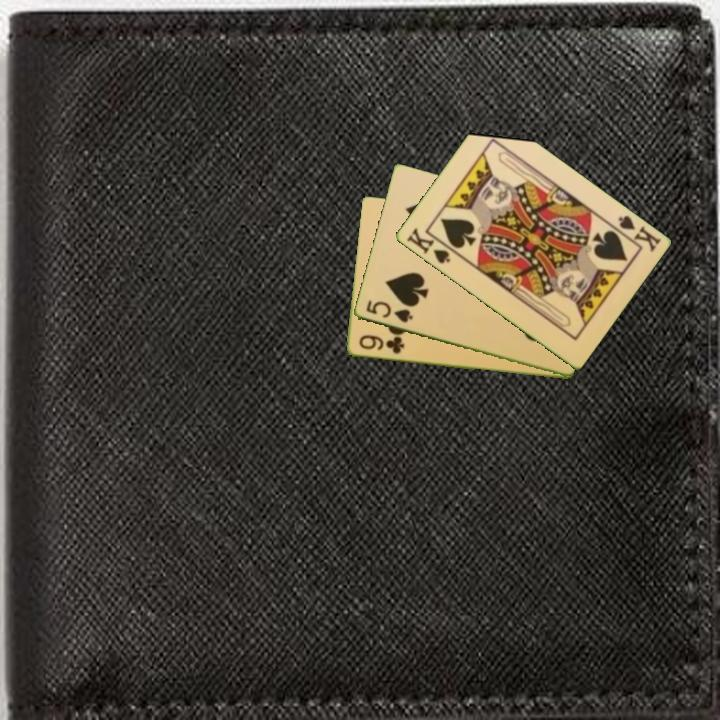5s: (362, 297, 415, 326)
9c: (355, 332, 407, 357)
Ks: (608, 212, 663, 255), (402, 224, 453, 267)
